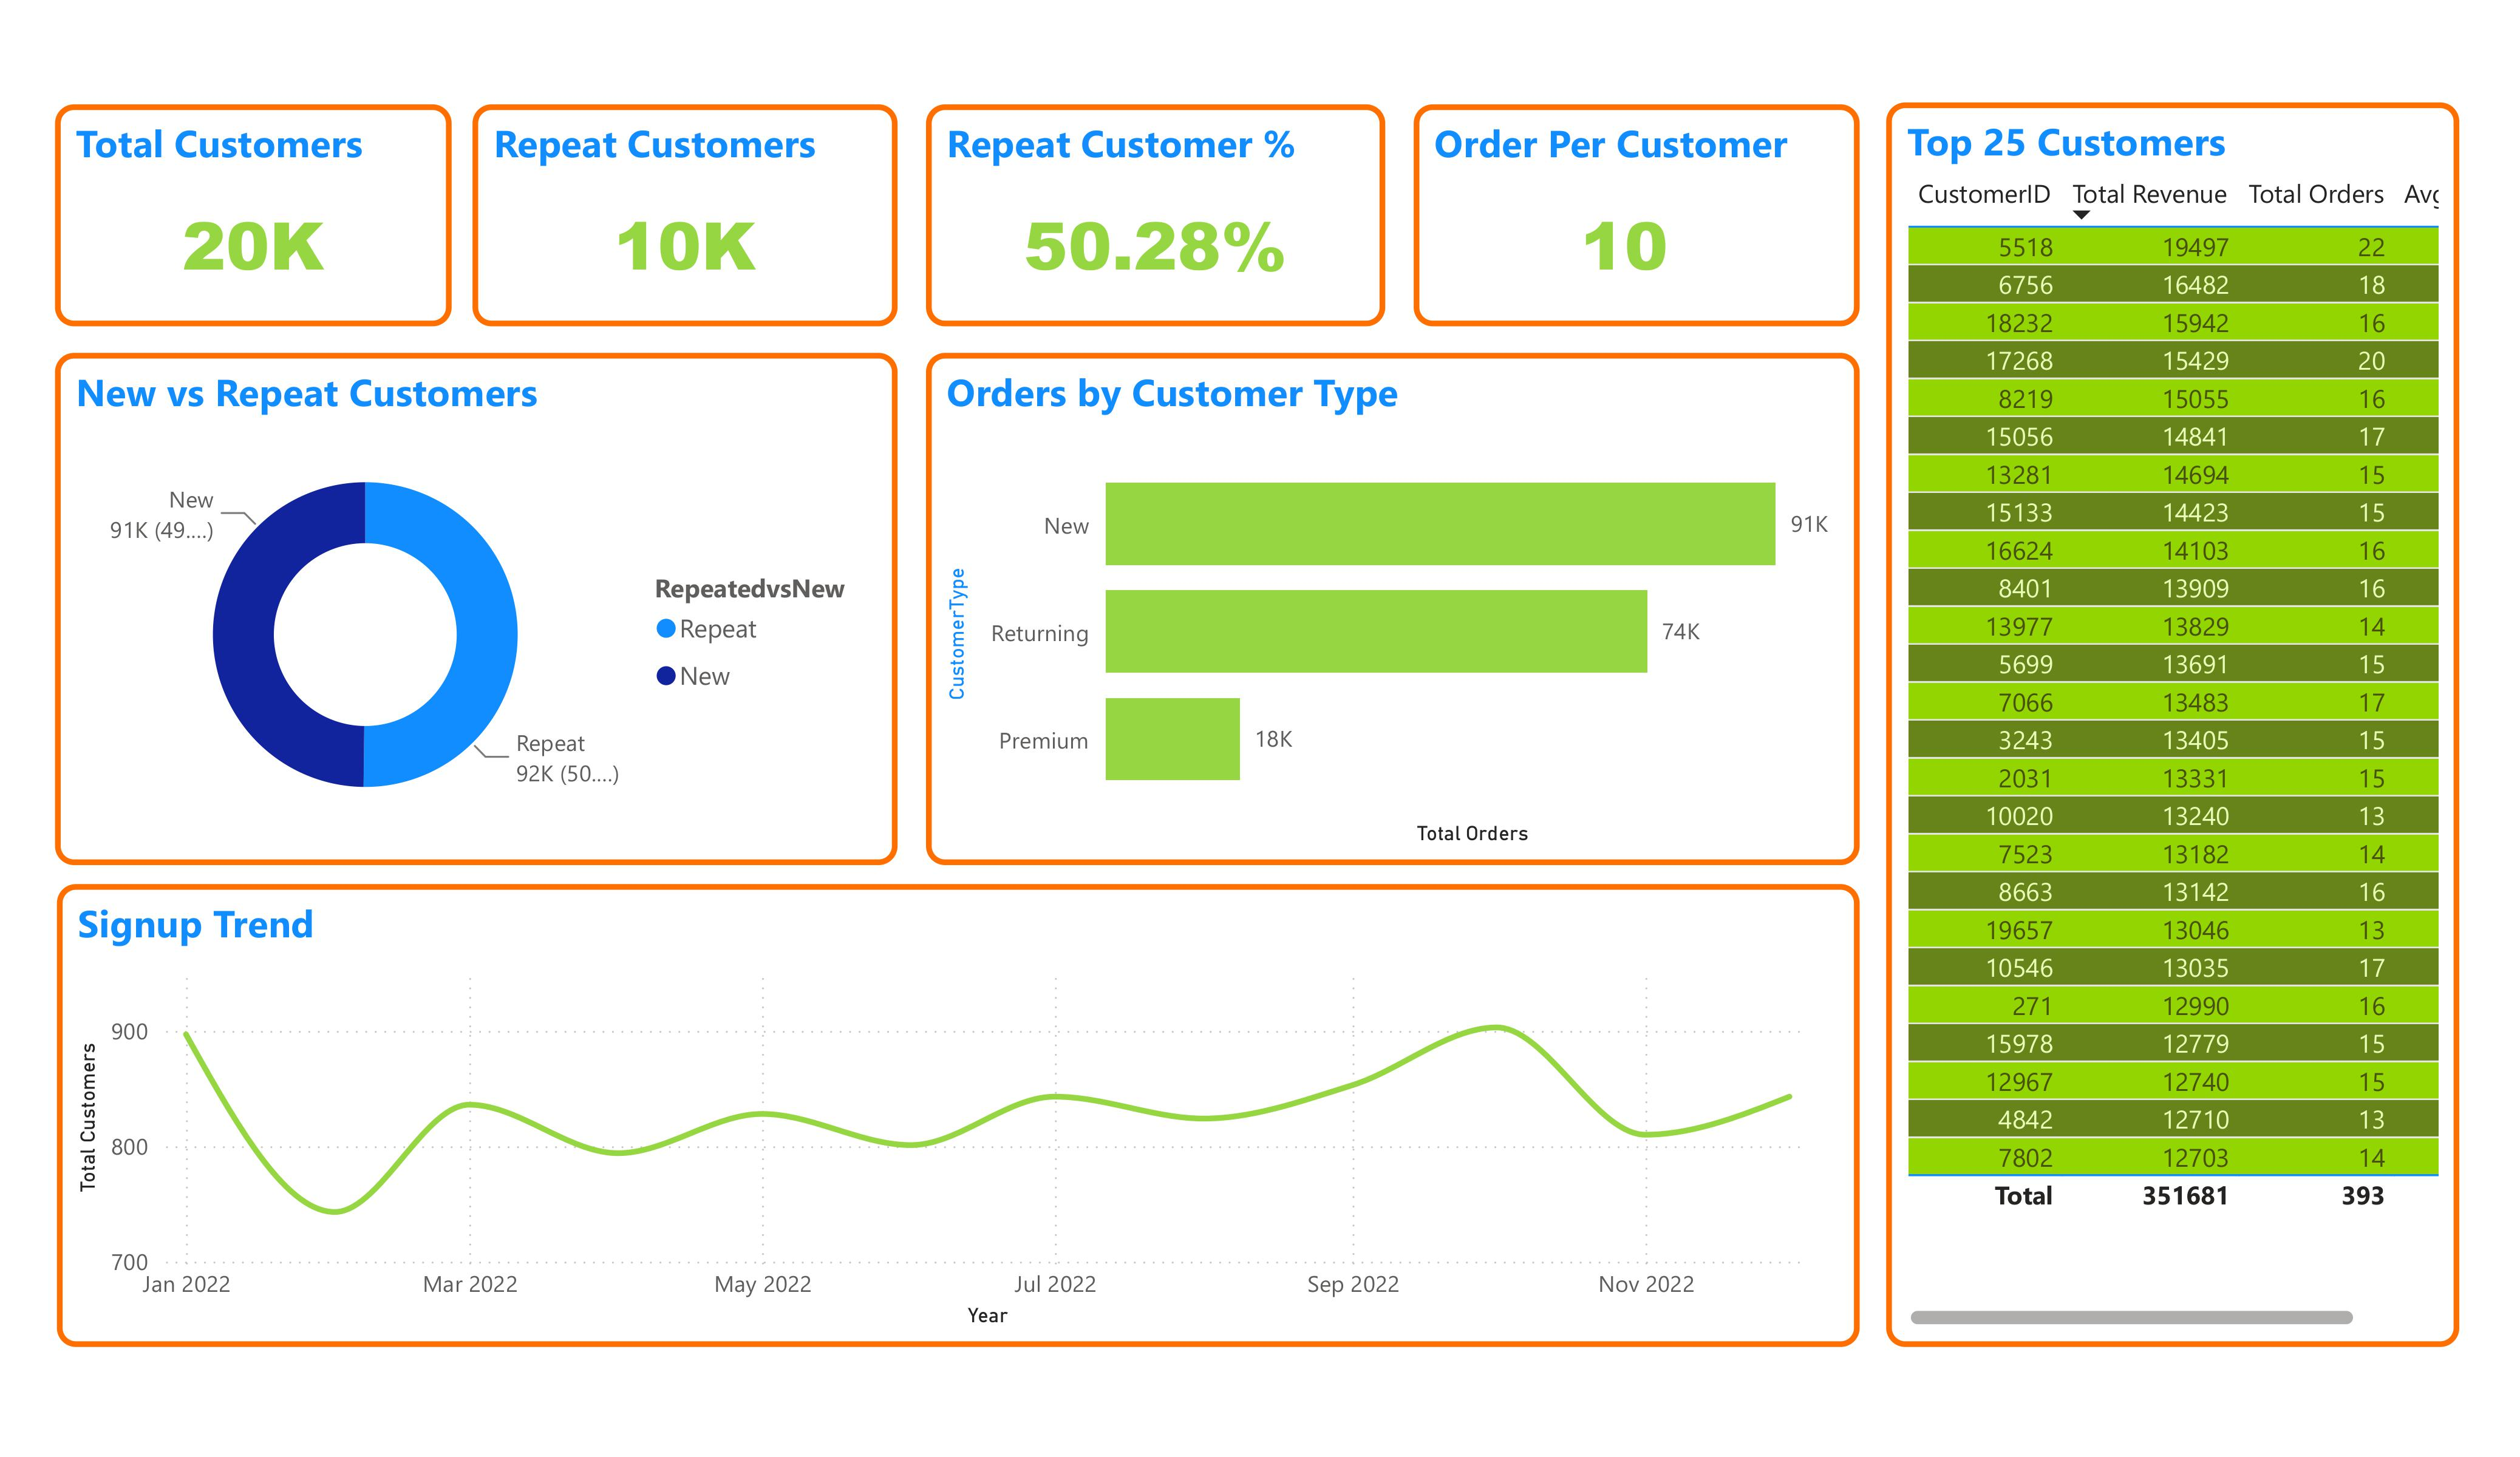

Layout of this report page (visuals, bound fields, positions):
{"tool":"powerbi","page":{"name":"Customer Analytics","canvas":[1280,720],"ordinal":1},"visuals":[{"type":"cardVisual","title":"Repeat Customers","fields":{"Data":["Orders.Repeat Customers"]},"box":[225,30.8,224.3,117.1],"z":0},{"type":"cardVisual","title":"Total Customers","fields":{"Data":["Orders.Total Customers"]},"box":[5,30.8,208.6,117.1],"z":1000},{"type":"cardVisual","title":"Repeat Customer %","fields":{"Data":["Orders.Repeat Customers %"]},"box":[463.6,30.8,242.9,117.1],"z":2000},{"type":"cardVisual","title":"Order Per Customer","fields":{"Data":["Orders.Order per customers"]},"box":[720.7,30.8,235.7,117.1],"z":3000},{"type":"lineChart","title":"Signup Trend","fields":{"Category":["Customers.SignupDate.Variation.Date Hierarchy.Year","Customers.SignupDate.Variation.Date Hierarchy.Month"],"Y":["Orders.Total Customers"]},"box":[5.9,442,950.1,244.3],"z":4000},{"type":"barChart","title":"Orders by Customer Type","fields":{"Y":["Orders.Total Orders"],"Category":["Customers.CustomerType"]},"box":[463.6,162.2,492.9,270],"z":5000},{"type":"donutChart","title":"New vs Repeat Customers","fields":{"Category":["Customers.RepeatedvsNew"],"Y":["Orders.Total Orders"]},"box":[5,162.2,444.3,270],"z":6000},{"type":"tableEx","title":"Top 25 Customers","fields":{"Values":["Orders.CustomerID","Orders.Total Revenue","Orders.Total Orders","Orders.Avg Rating"]},"box":[969.7,30.3,302.6,656.1],"z":7000}]}

Visuals, with their boxes on the page's 1280x720 design canvas (x1, y1, x2, y2). These are canvas units, not pixel positions in the 2520x1457 screenshot, which may show the page scaled, cropped or inside an application window:
"Repeat Customers" cardVisual: {"x1": 225, "y1": 31, "x2": 449, "y2": 148}
"Total Customers" cardVisual: {"x1": 5, "y1": 31, "x2": 214, "y2": 148}
"Repeat Customer %" cardVisual: {"x1": 464, "y1": 31, "x2": 706, "y2": 148}
"Order Per Customer" cardVisual: {"x1": 721, "y1": 31, "x2": 956, "y2": 148}
"Signup Trend" lineChart: {"x1": 6, "y1": 442, "x2": 956, "y2": 686}
"Orders by Customer Type" barChart: {"x1": 464, "y1": 162, "x2": 956, "y2": 432}
"New vs Repeat Customers" donutChart: {"x1": 5, "y1": 162, "x2": 449, "y2": 432}
"Top 25 Customers" tableEx: {"x1": 970, "y1": 30, "x2": 1272, "y2": 686}
